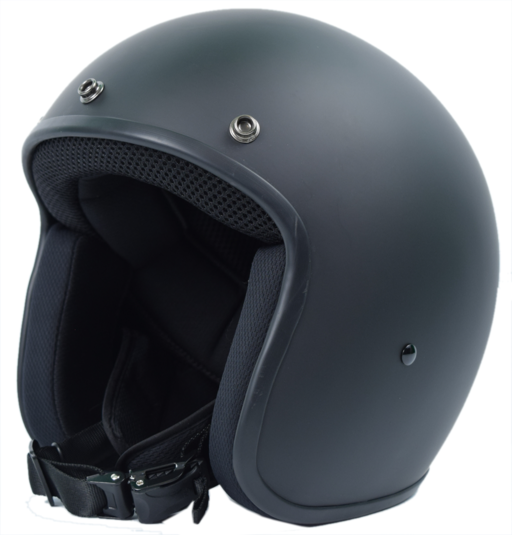with_helmet: (13, 2, 503, 530)
